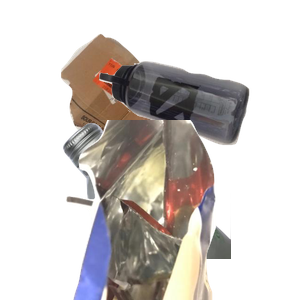cardboard: (58, 31, 222, 188)
glass: (60, 120, 300, 300)
plastic: (97, 59, 300, 197)
trash: (63, 120, 300, 300)
